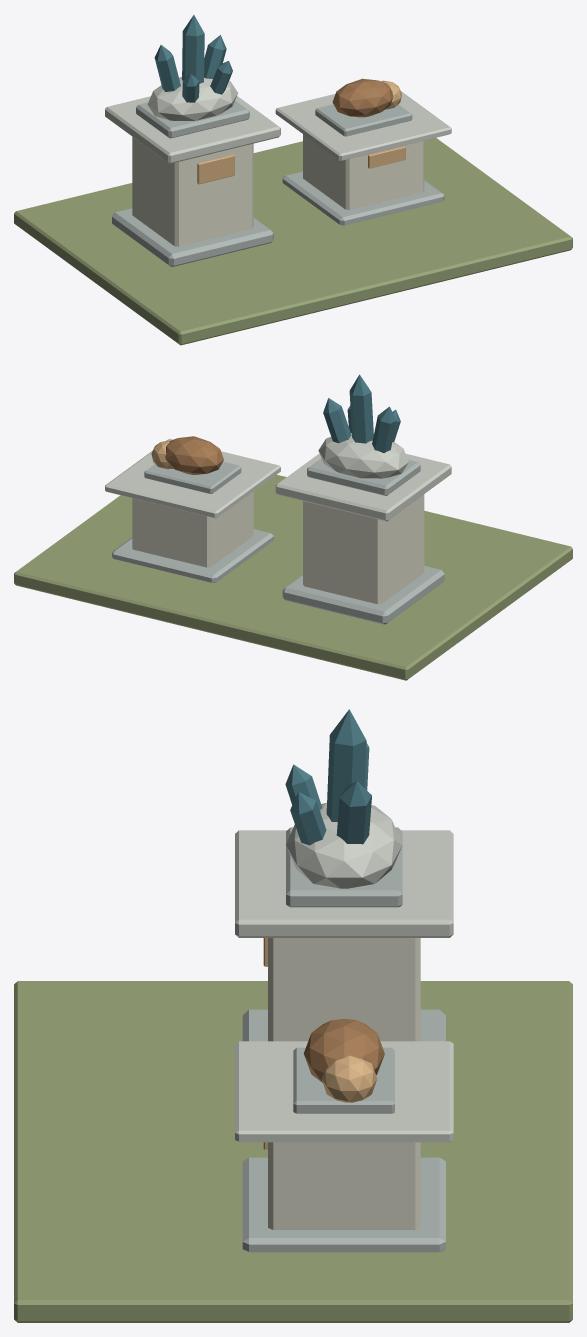
The picture shows the model from 3 angles, top to bottom: view 1: azimuth 30°, elevation 25°; view 2: azimuth 150°, elevation 25°; view 3: azimuth 270°, elevation 25°; orthographic projection. The views are drawn at different scales.
Parts seen in each view (by area): view 1: museum-geology-corner-01; view 2: museum-geology-corner-01; view 3: museum-geology-corner-01.
Part boxes in pixels (<box>): museum-geology-corner-01: <box>14,15,572,345</box>; museum-geology-corner-01: <box>14,374,572,680</box>; museum-geology-corner-01: <box>14,709,572,1322</box>.
Bounding box in the file's own units: 3 × 1.68 × 2.2.
